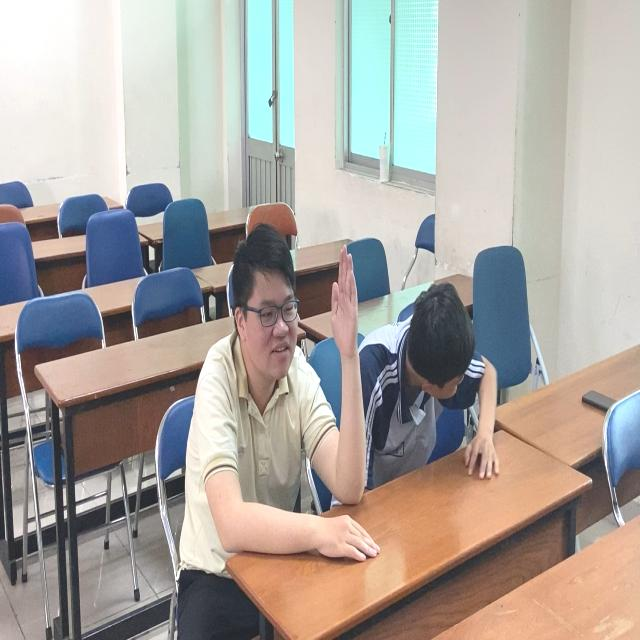raise_hand: (177, 186, 372, 581)
